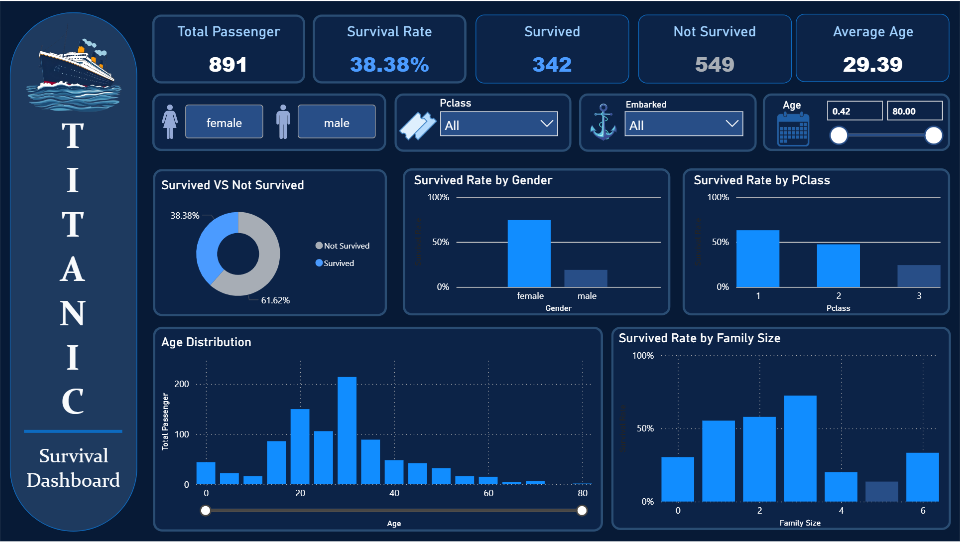

The page's visual inventory and layout, read from the dashboard file:
{"tool":"powerbi","page":{"name":"Page 1","canvas":[1280,720],"ordinal":0},"visuals":[{"type":"shape","box":[204.3,434.3,600,272.9],"z":0},{"type":"shape","box":[1061.3,16.7,205,91.7],"z":1000},{"type":"shape","box":[203.2,17.9,204.2,91.7],"z":1000},{"type":"shape","box":[850.7,17.9,205,91.7],"z":1000},{"type":"shape","box":[634,18,205,91.7],"z":1000},{"type":"shape","box":[203.3,123.3,311.7,76.7],"z":1000,"group":"g1"},{"type":"shape","box":[772.3,123.3,236.4,77.3],"z":1000},{"type":"shape","box":[1016.7,123.3,250,76.7],"z":2000},{"type":"shape","box":[910,222.7,357,196],"z":3000,"group":"g3"},{"type":"shape","box":[537.1,222.9,356.7,196],"z":3000,"group":"g2"},{"type":"shape","box":[204,224,312,196],"z":3000},{"type":"shape","box":[814.7,434,452.6,271.3],"z":3000,"group":"g4"},{"type":"shape","box":[525.6,123.3,236.4,77.3],"z":4000},{"type":"shape","box":[13.3,15,170,691.7],"z":5000},{"type":"cardVisual","title":"Survived","fields":{"Data":["Sum(clean_titanic.Survived)"]},"box":[642,28.7,188.7,84],"z":5000},{"type":"cardVisual","title":"Not Survived","fields":{"Data":["clean_titanic.Not_Survived"]},"box":[858.7,28.7,188.7,84],"z":5000},{"type":"cardVisual","title":"Average Age ","fields":{"Data":["Avg(clean_titanic.Age)"]},"box":[1070,28.7,188.7,84],"z":5000},{"type":"cardVisual","title":"Total Passenger","fields":{"Data":["CountNonNull(clean_titanic.PassengerId)"]},"box":[211.3,28.7,188,85.3],"z":6000},{"type":"textbox","box":[51.2,145,91.2,436.2],"z":6000},{"type":"shape","box":[417.3,17.9,205,91.7],"z":7000},{"type":"donutChart","title":"Survived VS Not Survived","fields":{"Y":["CountNonNull(clean_titanic.PassengerId)"],"Category":["clean_titanic.Survival Status"]},"box":[210,235,297,185],"z":8000},{"type":"columnChart","title":"Survived Rate by PClass","fields":{"Y":["clean_titanic.Survival_Rate"],"Category":["clean_titanic.Pclass"]},"box":[919.5,227.7,339.5,191.7],"z":9000,"group":"g3"},{"type":"columnChart","title":"Survived Rate by Gender","fields":{"Category":["clean_titanic.Sex"],"Y":["clean_titanic.Survival_Rate"]},"box":[546.6,227.9,339.1,191.7],"z":9000,"group":"g2"},{"type":"columnChart","title":"Survived Rate by Family Size","fields":{"Y":["clean_titanic.Survival_Rate"],"Category":["clean_titanic.Family_Size"]},"box":[819.8,439.3,437.1,267.1],"z":9000,"group":"g4"},{"type":"columnChart","title":"Age Distribution","fields":{"Category":["clean_titanic.Age (bins)"],"Y":["CountNonNull(clean_titanic.PassengerId)"]},"box":[210,444.3,584.3,262.9],"z":9000},{"type":"slicer","fields":{"Values":["clean_titanic.Age"]},"box":[1089.8,122.8,176.6,79.3],"z":10000},{"type":"cardVisual","title":"Survival Rate","fields":{"Data":["clean_titanic.Survival_Rate"]},"box":[434,28.7,171.3,85.3],"z":11000},{"type":"image","box":[15,16.7,166.7,133.3],"z":12000},{"type":"textbox","box":[30,585,136.7,81.7],"z":13000},{"type":"shape","box":[31.7,561.7,131.7,23.3],"z":14000},{"type":"advancedSlicerVisual","fields":{"Values":["clean_titanic.Sex"]},"box":[242.8,133.6,265.1,55.4],"z":16000,"group":"g1"},{"type":"image","box":[357,138.4,38.8,45.9],"z":18000,"group":"g1"},{"type":"group","id":"g1","title":"Group 7","box":[203.3,123.3,311.7,76.7],"z":19000},{"type":"image","box":[210.4,138.4,35.3,45.9],"z":19000,"group":"g1"},{"type":"image","box":[770.9,132.7,66.4,57.3],"z":20000},{"type":"slicer","title":"o","fields":{"Values":["clean_titanic.Embarked"]},"box":[823.2,137.4,177.6,50.6],"z":21000},{"type":"image","box":[531.8,141.8,50.9,49.1],"z":22000},{"type":"textbox","box":[820,122.9,82.9,37.1],"z":23000},{"type":"image","box":[1023,140,69,61],"z":24000},{"type":"slicer","title":"o","fields":{"Values":["clean_titanic.Pclass"]},"box":[576.5,137.4,177.6,50.6],"z":25000},{"type":"textbox","box":[575.5,121.8,64.5,37.3],"z":26000},{"type":"textbox","box":[1006.4,123.6,100,39.1],"z":27000},{"type":"group","id":"g2","title":"Group 5","box":[537.1,222.9,355.7,197.1],"z":28000},{"type":"group","id":"g3","title":"Group 5","box":[910,222.7,356.7,196.7],"z":29000},{"type":"group","id":"g4","title":"Group 5","box":[814.7,434,452.7,272.7],"z":30000}]}

Visuals, with their boxes in screenshot pixels (x1, y1, x2, y2), scaled from the page's 1280x720 canvas onto the 961x543 screenshot:
shape: select_region(153, 328, 604, 533)
shape: select_region(797, 13, 951, 82)
shape: select_region(153, 13, 306, 83)
shape: select_region(639, 13, 793, 83)
shape: select_region(476, 14, 630, 83)
shape: select_region(153, 93, 387, 151)
shape: select_region(580, 93, 757, 151)
shape: select_region(763, 93, 951, 151)
shape: select_region(683, 168, 951, 316)
shape: select_region(403, 168, 671, 316)
shape: select_region(153, 169, 387, 317)
shape: select_region(612, 327, 951, 532)
shape: select_region(395, 93, 572, 151)
shape: select_region(10, 11, 138, 533)
"Survived" cardVisual: select_region(482, 22, 624, 85)
"Not Survived" cardVisual: select_region(645, 22, 786, 85)
"Average Age " cardVisual: select_region(803, 22, 945, 85)
"Total Passenger" cardVisual: select_region(159, 22, 300, 86)
textbox: select_region(38, 109, 107, 438)
shape: select_region(313, 13, 467, 83)
"Survived VS Not Survived" donutChart: select_region(158, 177, 381, 317)
"Survived Rate by PClass" columnChart: select_region(690, 172, 945, 316)
"Survived Rate by Gender" columnChart: select_region(410, 172, 665, 316)
"Survived Rate by Family Size" columnChart: select_region(615, 331, 944, 533)
"Age Distribution" columnChart: select_region(158, 335, 596, 533)
slicer - clean_titanic.Age: select_region(818, 93, 951, 152)
"Survival Rate" cardVisual: select_region(326, 22, 454, 86)
image: select_region(11, 13, 136, 113)
textbox: select_region(23, 441, 125, 503)
shape: select_region(24, 424, 123, 441)
advancedSlicerVisual - clean_titanic.Sex: select_region(182, 101, 381, 143)
image: select_region(268, 104, 297, 139)
"Group 7" group: select_region(153, 93, 387, 151)
image: select_region(158, 104, 184, 139)
image: select_region(579, 100, 629, 143)
"o" slicer: select_region(618, 104, 751, 142)
image: select_region(399, 107, 437, 144)
textbox: select_region(616, 93, 678, 121)
image: select_region(768, 106, 820, 152)
"o" slicer: select_region(433, 104, 566, 142)
textbox: select_region(432, 92, 480, 120)
textbox: select_region(756, 93, 831, 123)
"Group 5" group: select_region(403, 168, 670, 317)
"Group 5" group: select_region(683, 168, 951, 316)
"Group 5" group: select_region(612, 327, 952, 533)
